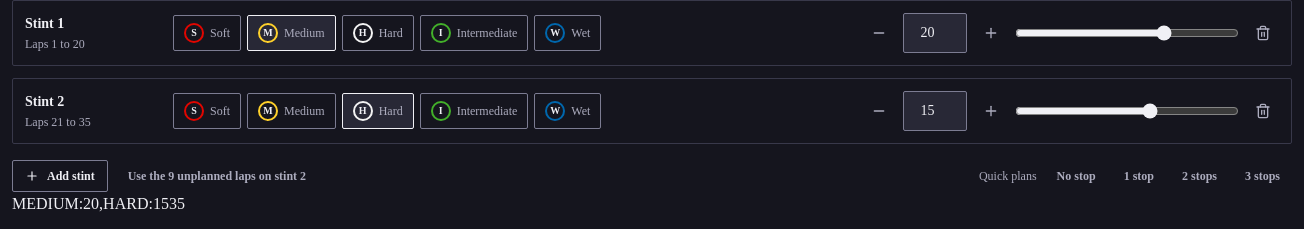
Scenario: StintEditor › offers to fill the laps still unplanned, on the last stint
Step 1. Click the button "Use the 9 unplanned laps on stint 2" → (217, 176), box 116,160 -> 318,192
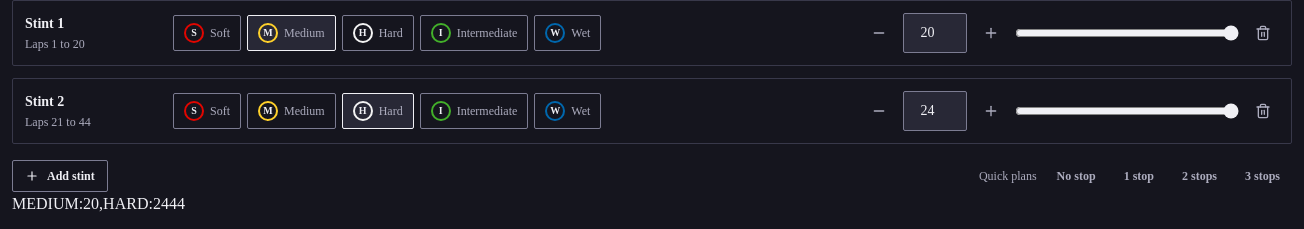
Check: the text named "plan" reads "MEDIUM:20,HARD:24", box 12,195 -> 169,212
Check: the button "unplanned laps" is gone
